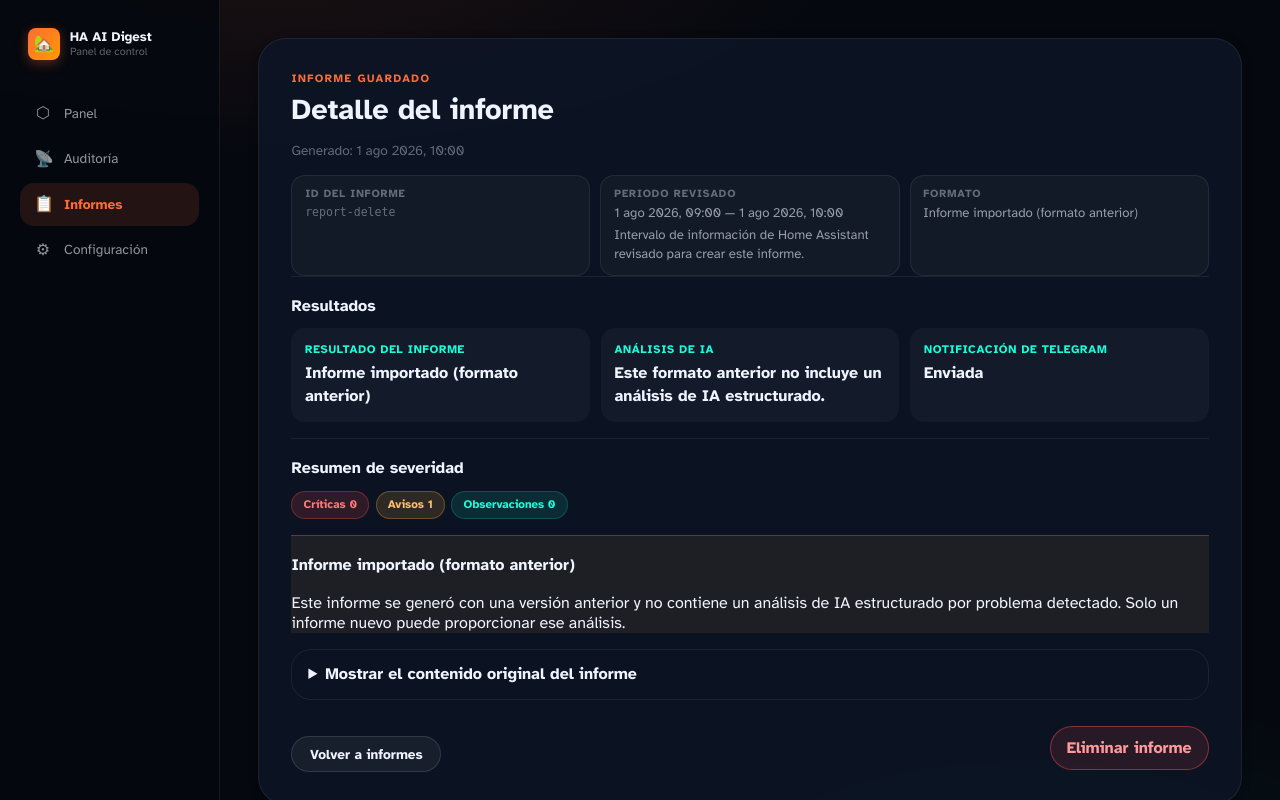
App report route › confirms report deletion, returns to history, and refreshes the remaining reports
Step 1. Click the button "Eliminar informe" → [1129, 748], box [1050,726,1209,770]
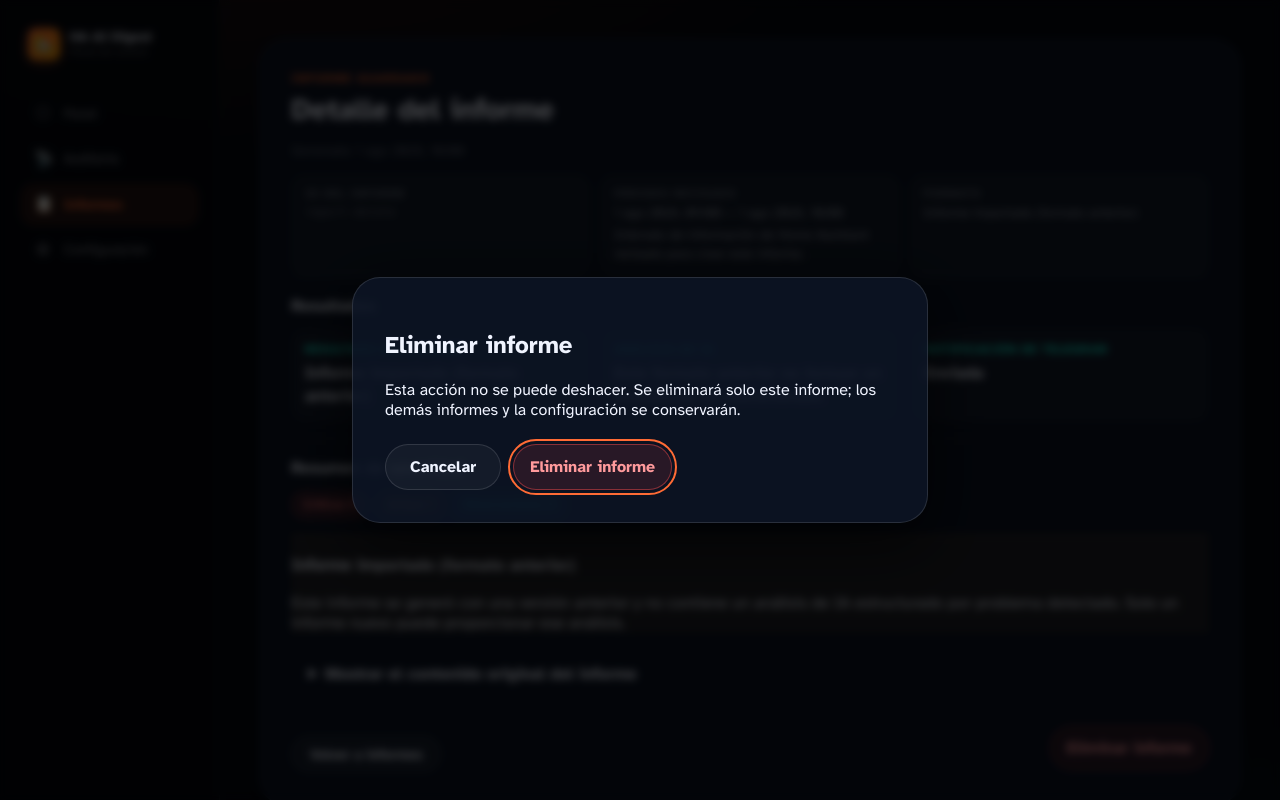
Expected: the dialog shows "Eliminar informe", [385,330,572,360]
Expected: the dialog shows "Esta acción no se puede deshacer", [385,380,876,420]
Step 2. Click the button "Eliminar informe" → [593, 467], box [513,444,672,490]
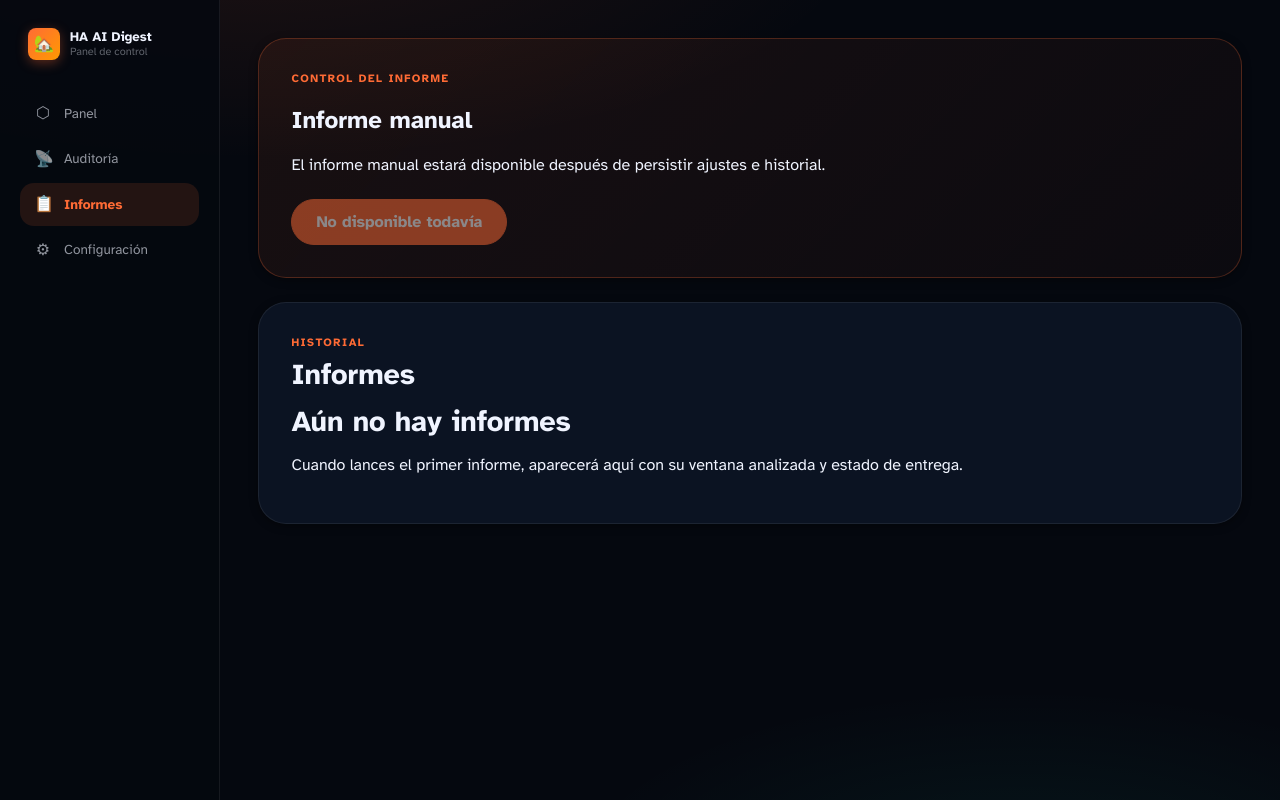
Expected: the text "Aún no hay informes" is shown, [291,404,571,439]
Expected: the text "Detalle del informe" is gone
